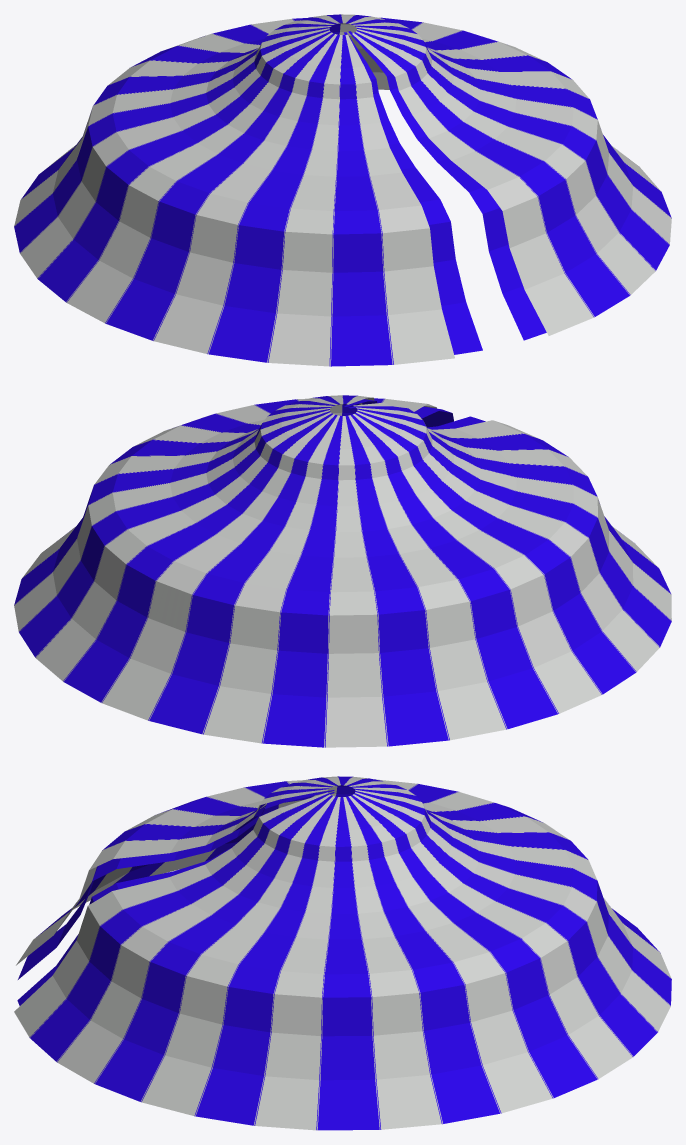
The model's file is TENDA.fbx.
The picture shows the model from 3 angles, top to bottom: view 1: azimuth 30°, elevation 25°; view 2: azimuth 150°, elevation 25°; view 3: azimuth 270°, elevation 25°; orthographic projection.
Visible parts, largest first — view 1: Circle.080, Circle.079, Circle.081, Circle.078, Circle.077, Circle.076, Circle.051, Circle.075, Circle.052, Circle.074, Circle.053, Circle.073 (+18 smaller); view 2: Circle.069, Circle.068, Circle.070, Circle.067, Circle.071, Circle.066, Circle.072, Circle.065, Circle.073, Circle.064, Circle.074, Circle.063 (+16 smaller); view 3: Circle.058, Circle.057, Circle.059, Circle.056, Circle.060, Circle.055, Circle.061, Circle.054, Circle.062, Circle.053, Circle.063, Circle.052 (+18 smaller).
Boxes of the visible parts, x1=… form: Circle.080: x1=329, y1=35, x2=393, y2=366; Circle.079: x1=267, y1=35, x2=342, y2=366; Circle.081: x1=345, y1=34, x2=454, y2=364; Circle.078: x1=207, y1=34, x2=339, y2=362; Circle.077: x1=152, y1=34, x2=337, y2=354; Circle.076: x1=105, y1=33, x2=334, y2=340; Circle.051: x1=352, y1=33, x2=594, y2=335; Circle.075: x1=66, y1=32, x2=332, y2=323; Circle.052: x1=354, y1=32, x2=630, y2=317; Circle.074: x1=37, y1=31, x2=331, y2=302; Circle.053: x1=356, y1=31, x2=655, y2=295; Circle.073: x1=20, y1=30, x2=330, y2=278; Circle.069: x1=324, y1=416, x2=388, y2=747; Circle.068: x1=261, y1=415, x2=342, y2=747; Circle.070: x1=345, y1=415, x2=449, y2=746; Circle.067: x1=202, y1=415, x2=339, y2=743; Circle.071: x1=348, y1=415, x2=507, y2=740; Circle.066: x1=148, y1=415, x2=337, y2=734; Circle.072: x1=350, y1=414, x2=558, y2=729; Circle.065: x1=101, y1=414, x2=334, y2=720; Circle.073: x1=353, y1=414, x2=602, y2=714; Circle.064: x1=63, y1=413, x2=332, y2=702; Circle.074: x1=354, y1=413, x2=636, y2=694; Circle.063: x1=35, y1=412, x2=331, y2=681; Circle.058: x1=316, y1=797, x2=381, y2=1130; Circle.057: x1=253, y1=797, x2=340, y2=1130; Circle.059: x1=343, y1=797, x2=442, y2=1129; Circle.056: x1=194, y1=796, x2=337, y2=1125; Circle.060: x1=346, y1=796, x2=501, y2=1124; Circle.055: x1=140, y1=796, x2=335, y2=1116; Circle.061: x1=348, y1=796, x2=553, y2=1113; Circle.054: x1=94, y1=795, x2=332, y2=1102; Circle.062: x1=351, y1=795, x2=598, y2=1098; Circle.053: x1=56, y1=794, x2=330, y2=1083; Circle.063: x1=353, y1=794, x2=633, y2=1079; Circle.052: x1=29, y1=793, x2=329, y2=1062.
Bounding box in the file's own units: 8173 × 2720 × 8128.
